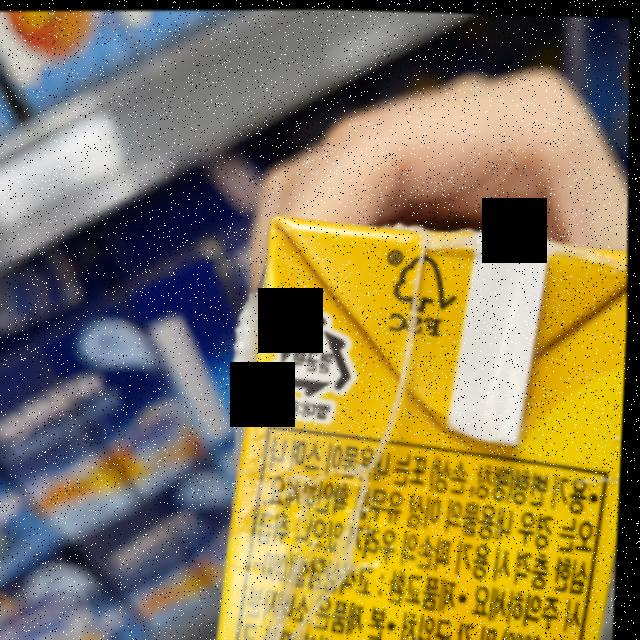SterilizedPack: (269, 304, 363, 397)
